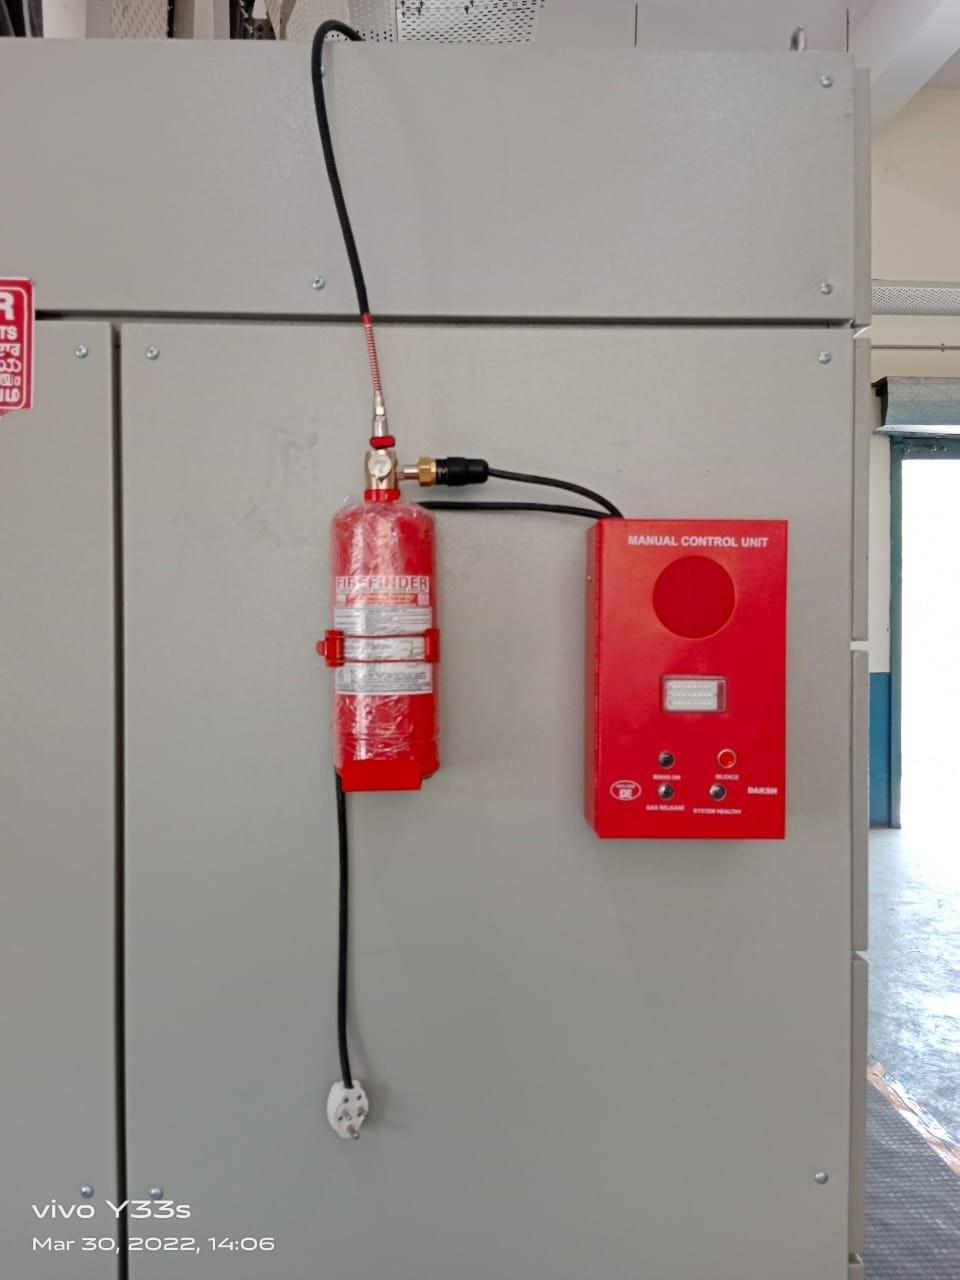wall-mounted: (190, 328, 542, 900)
